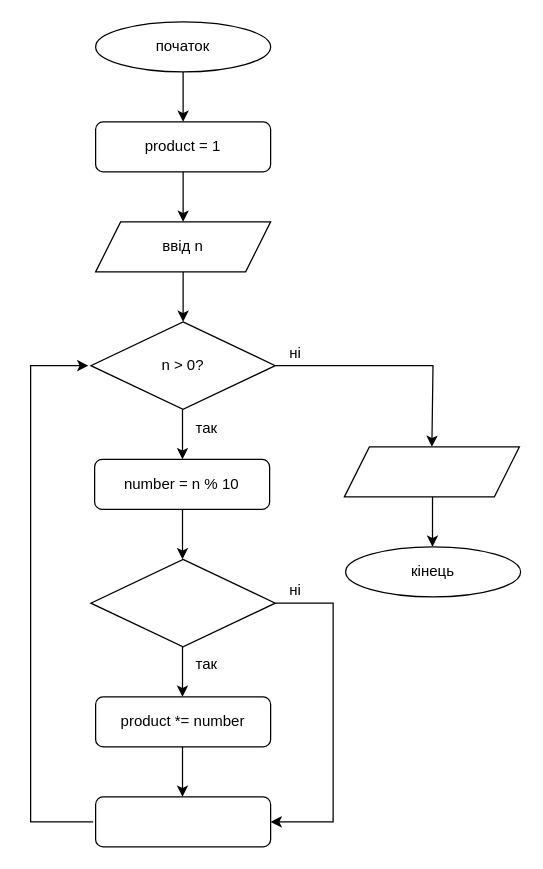
Some shapes in this 543 by 869 pixel diagram are drawn without their labels. The box of each missing label's shape, as (x1, y1, x2, y2) in pixels:
n = n / 10: (94, 796, 271, 847)
number != 7?: (90, 558, 275, 647)
вивід product: (343, 446, 519, 497)
